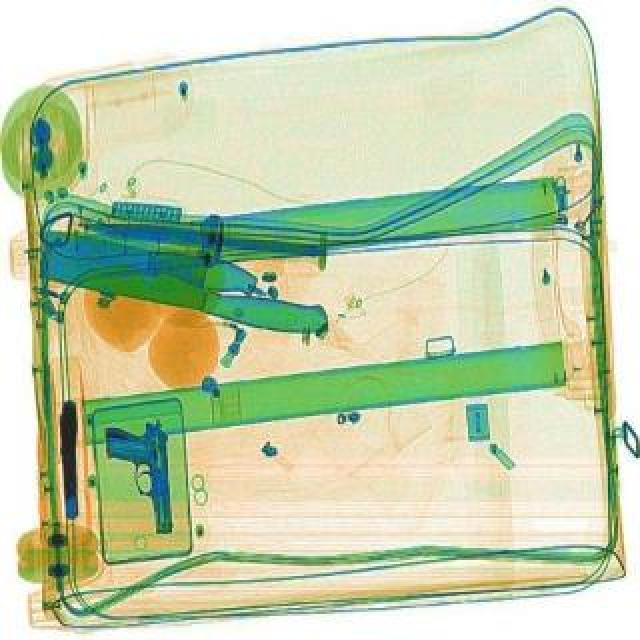gun: (104, 418, 172, 534), (56, 398, 80, 518)
knife: (36, 224, 336, 334), (32, 222, 260, 296), (88, 214, 316, 258)
